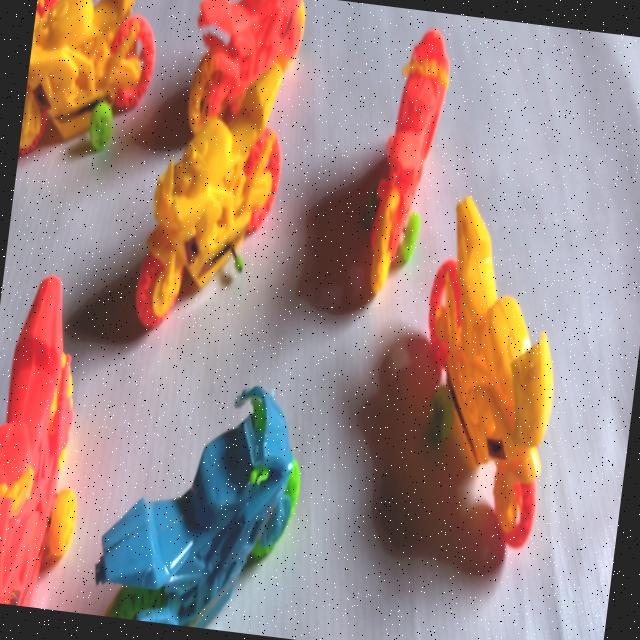bikes: (94, 386, 299, 626), (136, 63, 282, 324), (0, 276, 72, 606), (18, 0, 154, 154), (370, 30, 449, 292), (188, 0, 304, 132)
